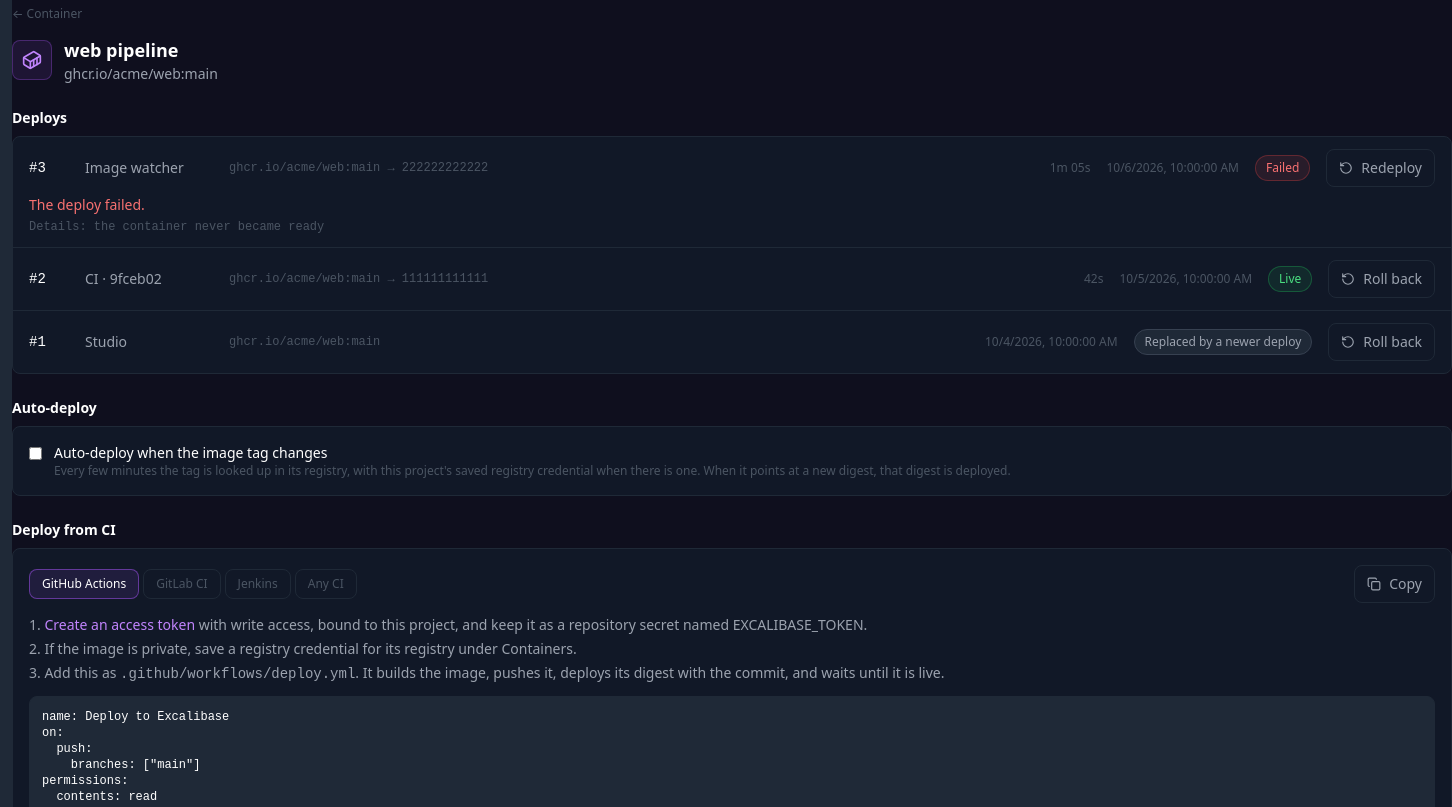
it: ContainerPipelinePage › the jenkins setup is one tab away, filled in for this app
Click the tab "Jenkins". click: (258, 584)
box: [225,569,291,599]
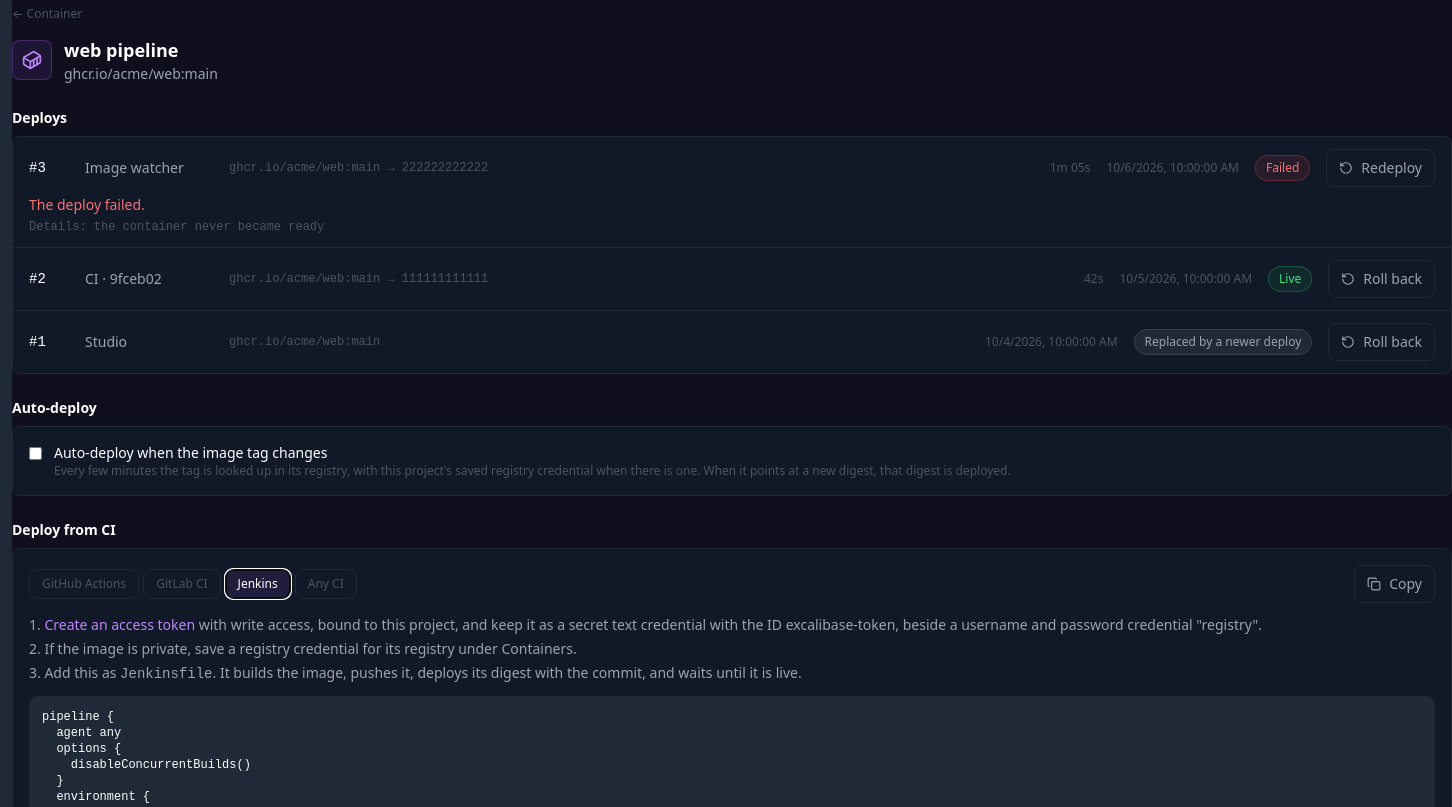
Expected: the text with test id "ci-file" reads "Jenkinsfile", [120,666,212,682]
Expected: the text with test id "ci-secret" shows "secret text credential", [557,615,1258,634]
